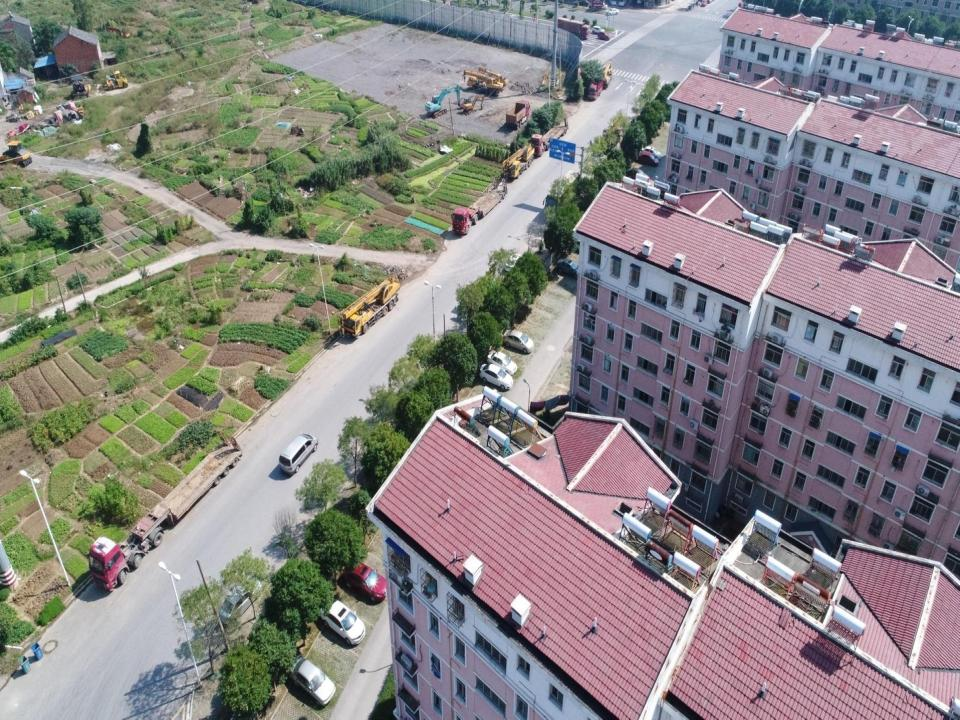car: (288, 653, 336, 706), (320, 597, 366, 646), (219, 578, 261, 628), (343, 557, 388, 602), (479, 359, 513, 390), (487, 349, 517, 376), (504, 329, 534, 354), (557, 259, 578, 279), (504, 254, 525, 272), (626, 168, 648, 181), (638, 154, 659, 166), (645, 146, 661, 160), (606, 9, 620, 15), (575, 240, 581, 252)
truck: (88, 428, 243, 591), (451, 176, 508, 235), (532, 115, 574, 156), (557, 16, 590, 40), (506, 100, 532, 129), (588, 78, 603, 101)
van: (279, 432, 318, 477), (598, 32, 610, 40), (592, 26, 605, 33)
